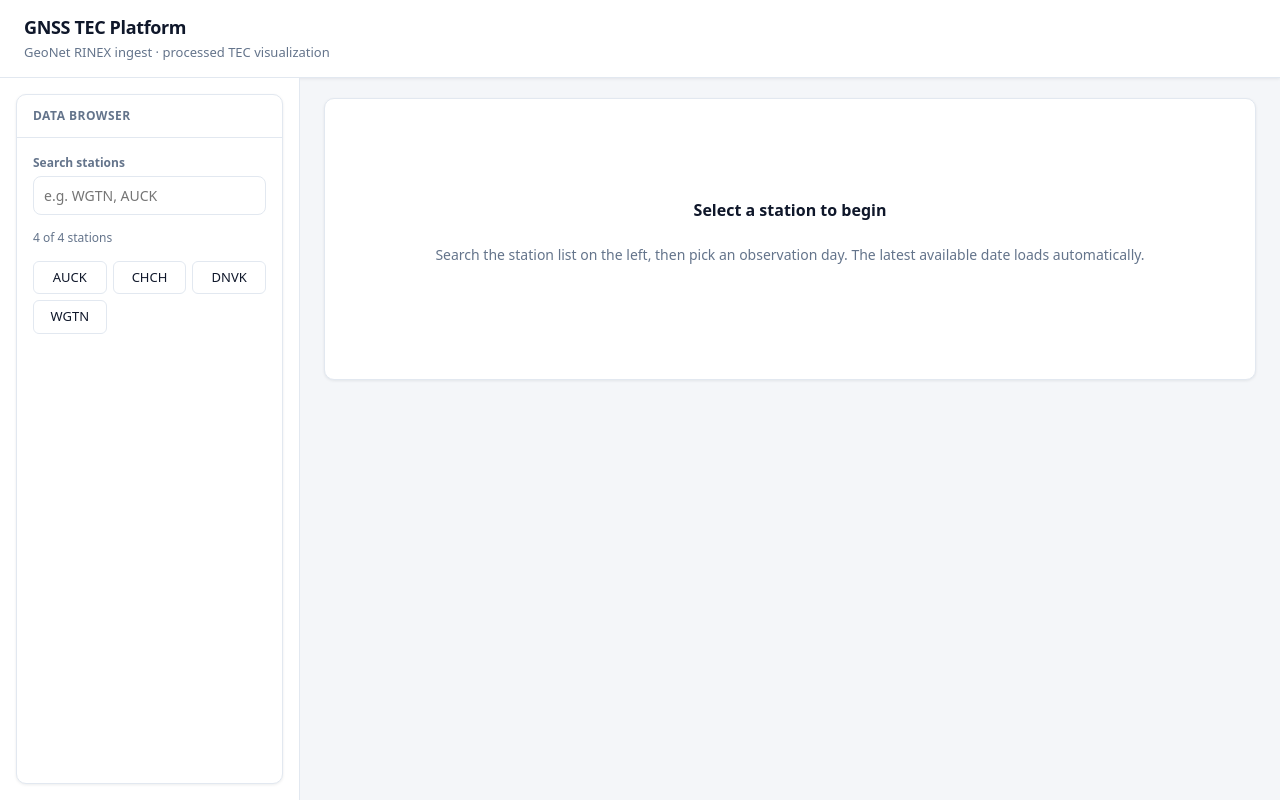
App › loads dates when a station is selected
Click the button with aria-label "Select station AUCK" at (70, 277), box [33, 260, 107, 294]
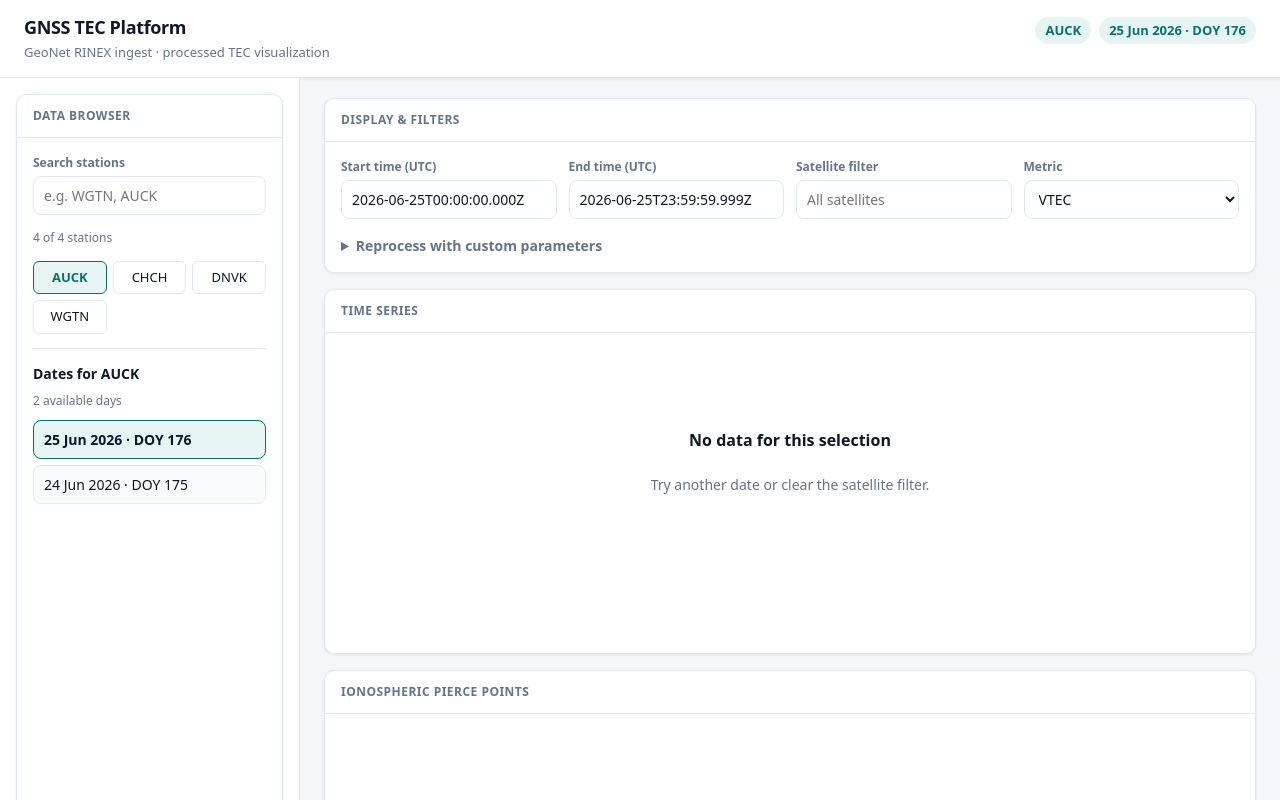
Now the text "Dates for AUCK" is shown, box [33, 362, 139, 384]
